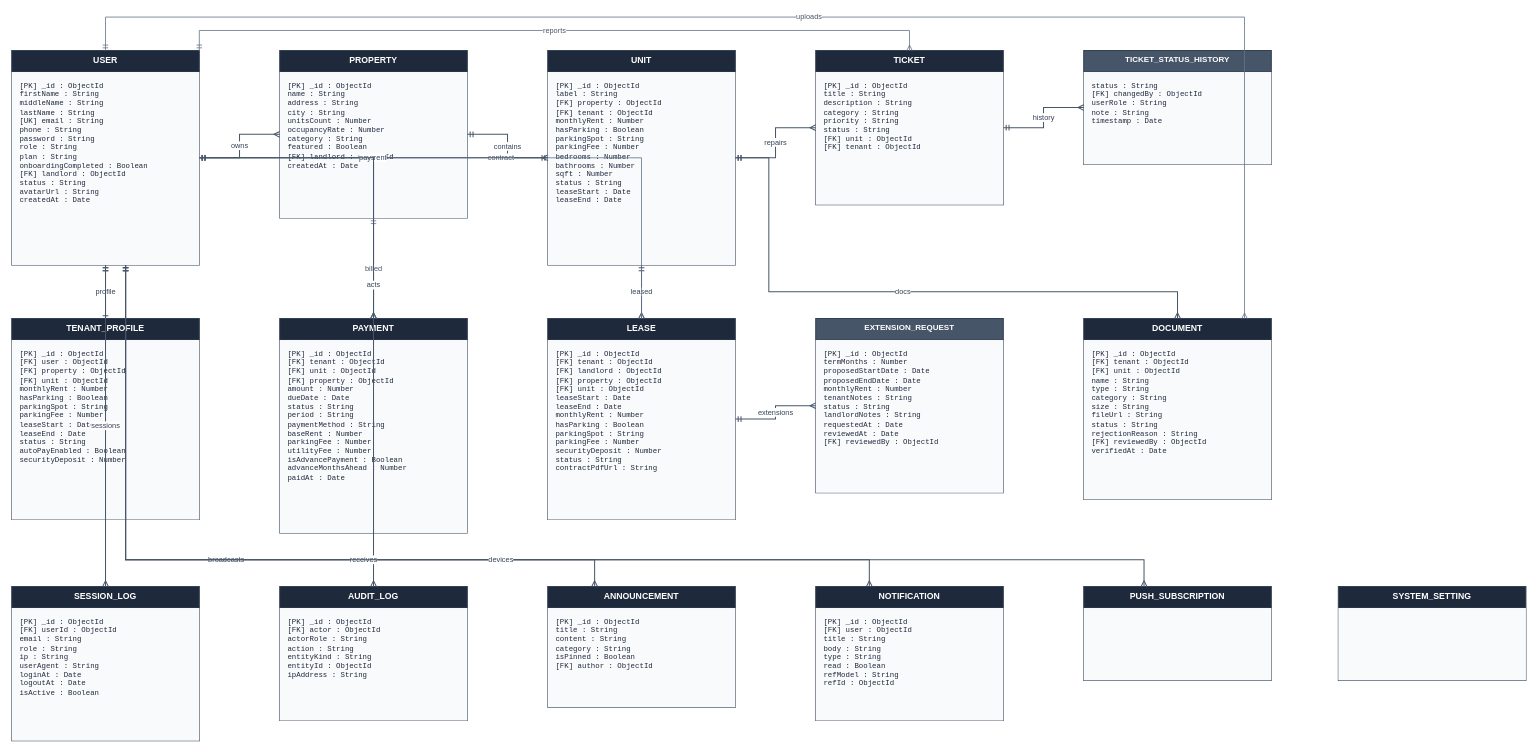
Image size: 1538x754. Some labels were removed from this diagram. The centre of each missing label's shape, as x and y in pixels:
"[PK] _id : ObjectId [FK] user : ObjectId endpoint : String" belongs at pixel 1177 644.
"[PK] _id : ObjectId [UK] key : String value : Mixed" belongs at pixel 1432 644.
